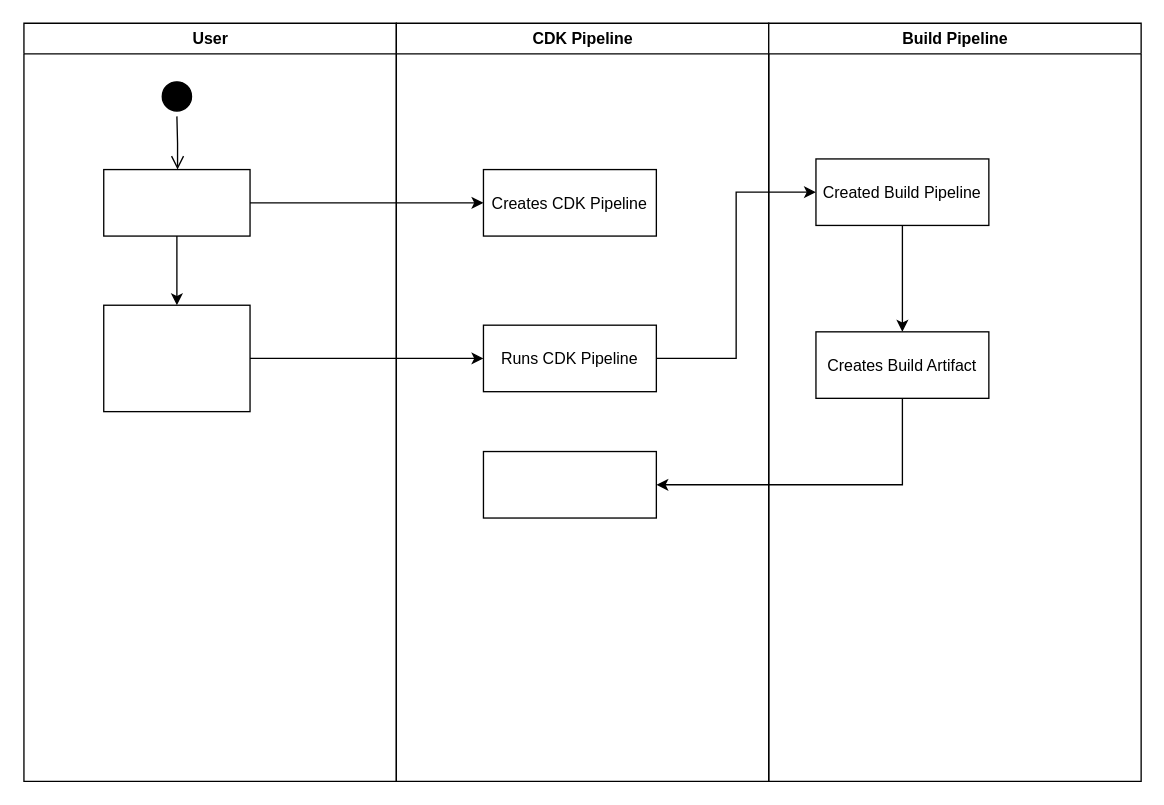
Image size: 1164x805. Some labels were removed from this diagram. The shapes that lost their labels are listed below. From the top down, each one's centre as x and y in pixels, then its label:
the point at 176,202: Bootstrap CDK
the point at 176,358: Commits Build Pipeline + Task defs
the point at 569,484: Deploys Task Defs (ECS)
